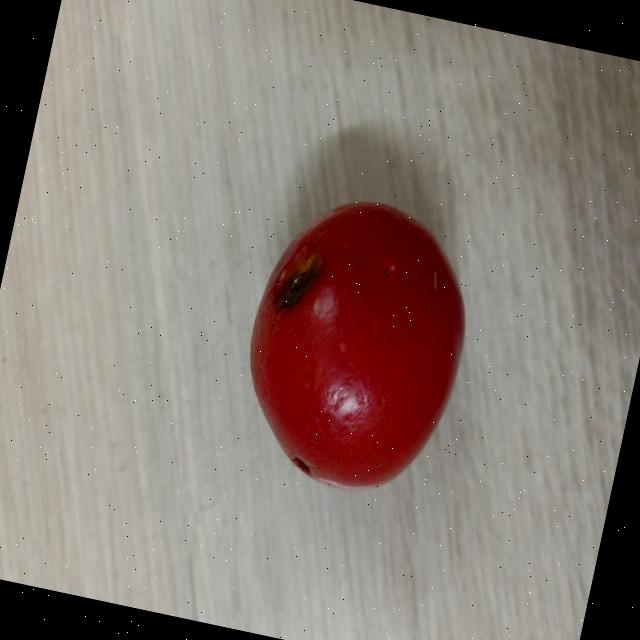overripe: (221, 180, 494, 514)
